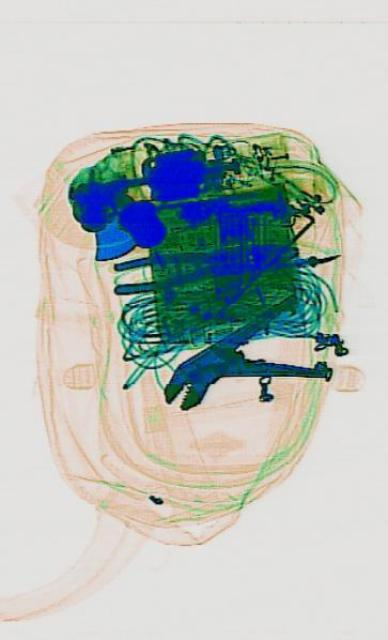Pliers: (154, 282, 328, 446), (110, 229, 298, 297)
